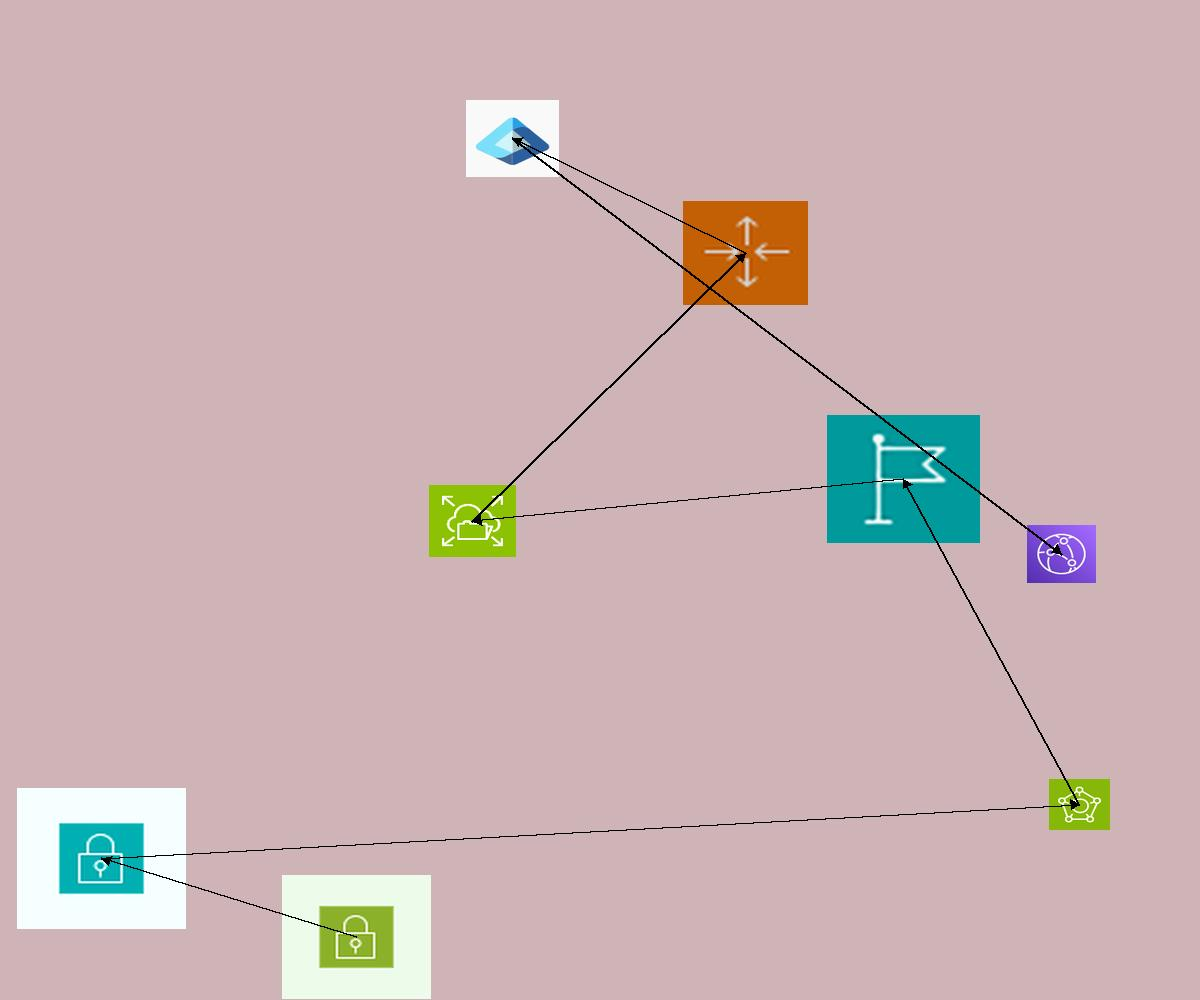AWS-Backup: (1049, 779, 1110, 830)
AWS-CloudFront: (1027, 525, 1096, 583)
AWS-EFS: (429, 485, 516, 557)
AWS-Private-subnet: (17, 788, 186, 929)
AWS-Public-subnet: (282, 875, 431, 999)
AWS-Region: (827, 415, 980, 543)
AWS-Scaling-group: (683, 201, 808, 305)
Azure_microsoft_entra: (466, 100, 559, 177)
